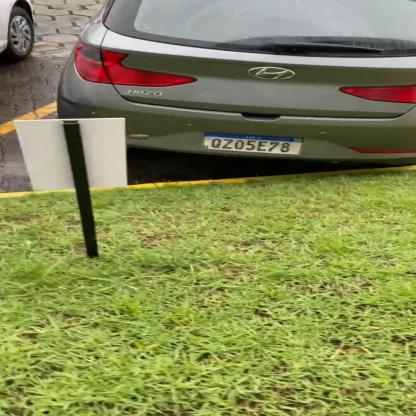Plate: (203, 128, 306, 162)
